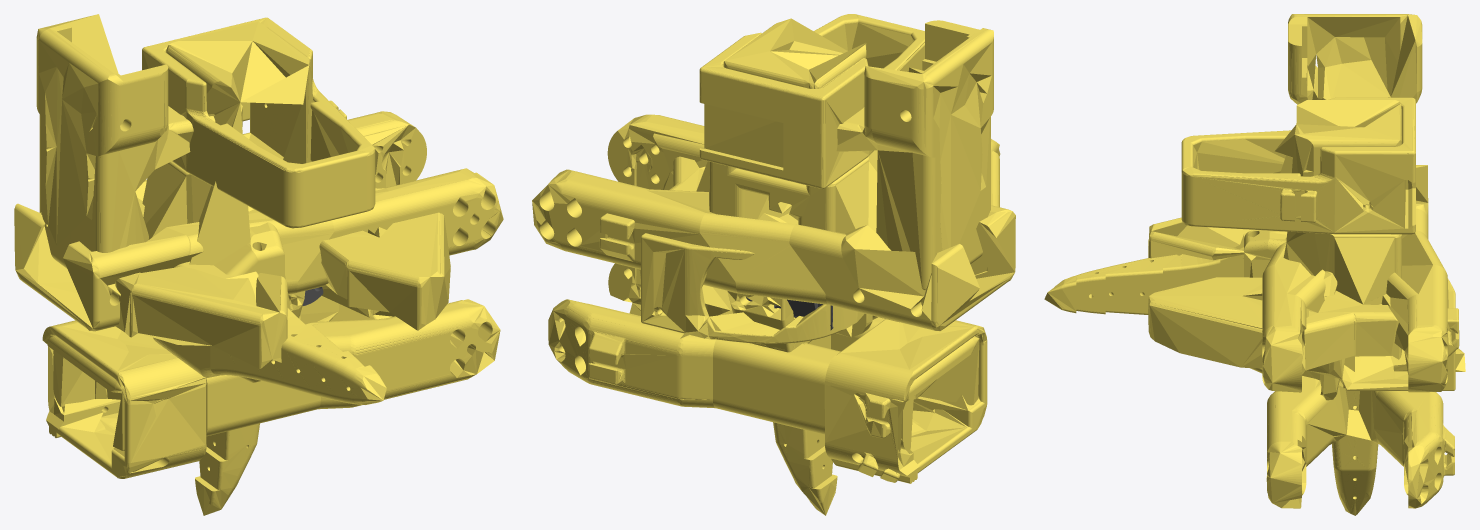
The picture shows the model from 3 angles, left to right: view 1: azimuth 30°, elevation 25°; view 2: azimuth 150°, elevation 25°; view 3: azimuth 270°, elevation 25°; orthographic projection. The views are drawn at different scales.
Parts seen in each view (by area): view 1: base_so101_v2.stl, rotation_pitch_so101_v1.stl, upper_arm_so101_v1.stl, under_arm_so101_v1.stl, base_motor_holder_so101_v1.stl, wrist_roll_follower_so101_v1.stl, motor_holder_so101_wrist_v1.stl, motor_holder_so101_base_v1.stl, moving_jaw_so101_v1.stl; view 2: upper_arm_so101_v1.stl, under_arm_so101_v1.stl, rotation_pitch_so101_v1.stl, base_motor_holder_so101_v1.stl, base_so101_v2.stl, motor_holder_so101_wrist_v1.stl, wrist_roll_pitch_so101_v2.stl, motor_holder_so101_base_v1.stl, moving_jaw_so101_v1.stl; view 3: base_so101_v2.stl, base_motor_holder_so101_v1.stl, upper_arm_so101_v1.stl, under_arm_so101_v1.stl, rotation_pitch_so101_v1.stl, wrist_roll_follower_so101_v1.stl, moving_jaw_so101_v1.stl, wrist_roll_pitch_so101_v2.stl.
Part boxes in pixels (left/top/right/bottom): base_so101_v2.stl: left=115, top=21, right=450, bottom=368; rotation_pitch_so101_v1.stl: left=36, top=14, right=242, bottom=294; upper_arm_so101_v1.stl: left=14, top=111, right=503, bottom=331; under_arm_so101_v1.stl: left=47, top=299, right=500, bottom=450; base_motor_holder_so101_v1.stl: left=142, top=17, right=375, bottom=228; wrist_roll_follower_so101_v1.stl: left=153, top=206, right=386, bottom=404; motor_holder_so101_wrist_v1.stl: left=43, top=320, right=206, bottom=478; motor_holder_so101_base_v1.stl: left=42, top=320, right=206, bottom=478; moving_jaw_so101_v1.stl: left=195, top=291, right=305, bottom=515; upper_arm_so101_v1.stl: left=532, top=114, right=1015, bottom=331; under_arm_so101_v1.stl: left=548, top=263, right=979, bottom=450; rotation_pitch_so101_v1.stl: left=836, top=20, right=993, bottom=290; base_motor_holder_so101_v1.stl: left=699, top=14, right=924, bottom=188; base_so101_v2.stl: left=669, top=18, right=999, bottom=233; motor_holder_so101_wrist_v1.stl: left=824, top=319, right=987, bottom=483; wrist_roll_pitch_so101_v2.stl: left=641, top=233, right=864, bottom=350; motor_holder_so101_base_v1.stl: left=825, top=319, right=987, bottom=482; moving_jaw_so101_v1.stl: left=727, top=291, right=837, bottom=515; base_so101_v2.stl: left=1148, top=100, right=1401, bottom=370; base_motor_holder_so101_v1.stl: left=1181, top=97, right=1415, bottom=234; upper_arm_so101_v1.stl: left=1262, top=165, right=1459, bottom=392; under_arm_so101_v1.stl: left=1266, top=371, right=1454, bottom=508; rotation_pitch_so101_v1.stl: left=1288, top=14, right=1422, bottom=104; wrist_roll_follower_so101_v1.stl: left=1044, top=230, right=1339, bottom=400; moving_jaw_so101_v1.stl: left=1332, top=365, right=1407, bottom=515; wrist_roll_pitch_so101_v2.stl: left=1307, top=278, right=1465, bottom=390.
Bounding box in the file's own units: 0.148 × 0.1676 × 0.1442.
